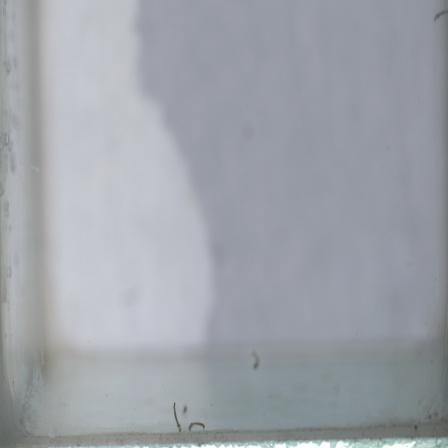Jentik-Nyamuk: (169, 397, 184, 431)
